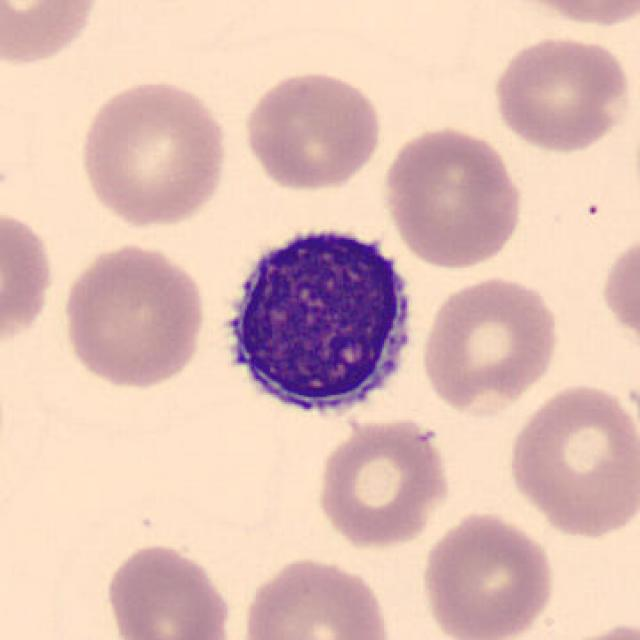Lymphocyte: (204, 210, 428, 432)
RBC: (73, 74, 233, 231), (57, 238, 210, 391), (377, 121, 526, 272), (502, 378, 638, 542), (418, 272, 564, 416), (313, 414, 455, 550), (238, 67, 386, 194), (416, 508, 558, 640), (489, 32, 633, 155), (99, 539, 236, 640), (238, 553, 394, 640), (0, 201, 57, 358), (0, 0, 105, 71), (598, 228, 636, 360), (498, 0, 638, 28), (548, 617, 638, 640)
